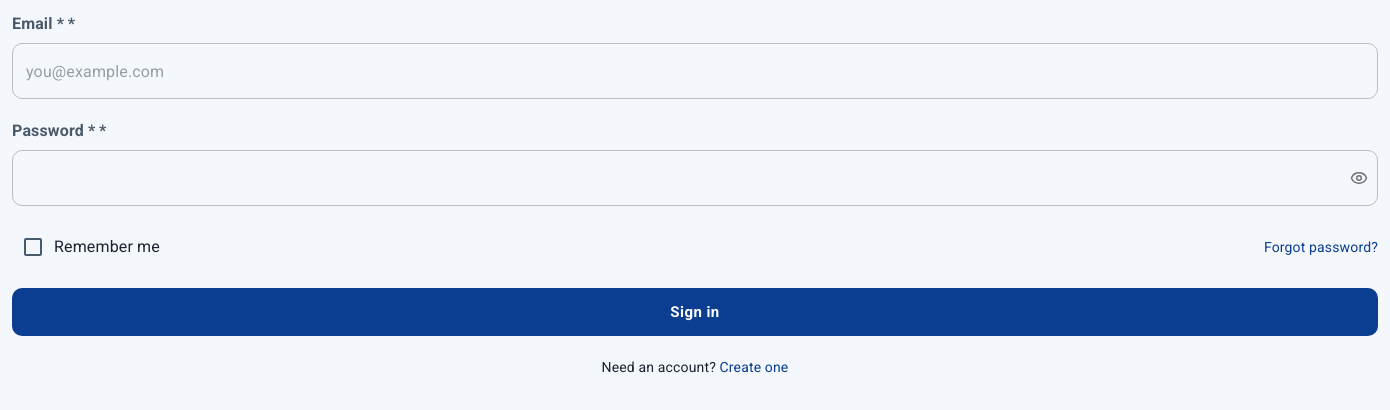
LoginForm › shows an error when password is missing
Type "user@example.com" into the field labelled "Email * *".
click(695, 71); type("user@example.com")  # box left=12, top=43, right=1378, bottom=99
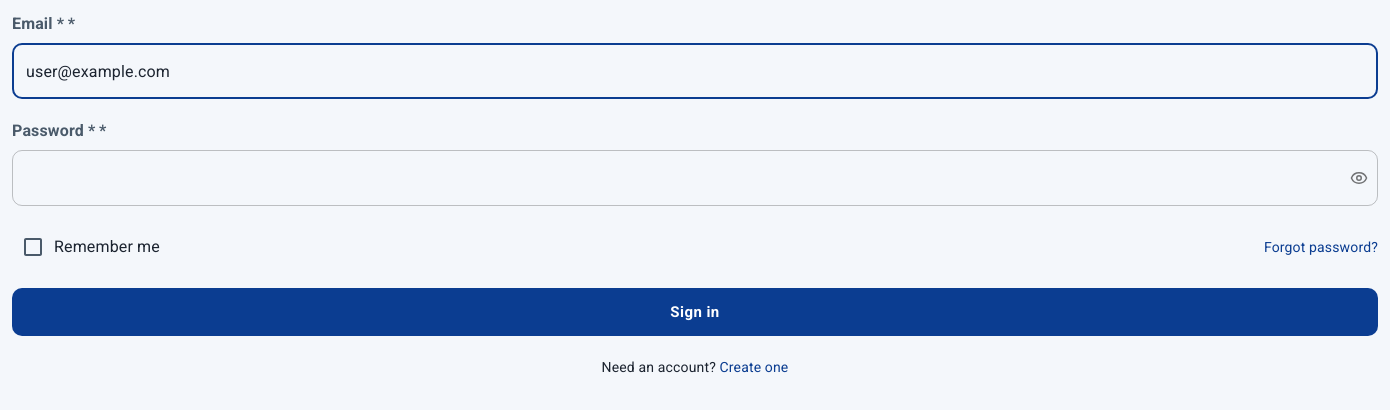
Click the button "Sign in".
click(695, 312)  # box left=12, top=288, right=1378, bottom=336
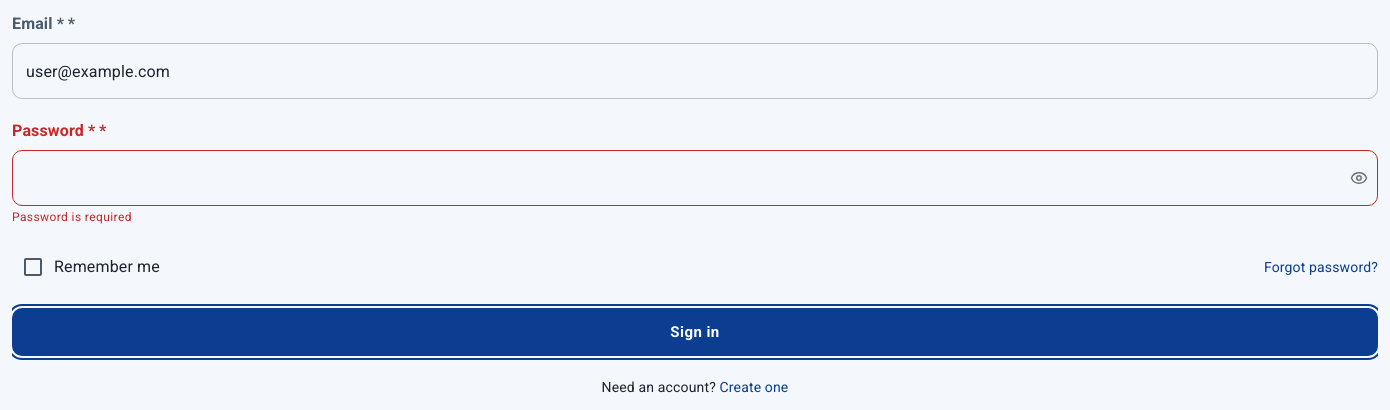
Now the text "Password is required" is shown, box left=12, top=210, right=132, bottom=224
